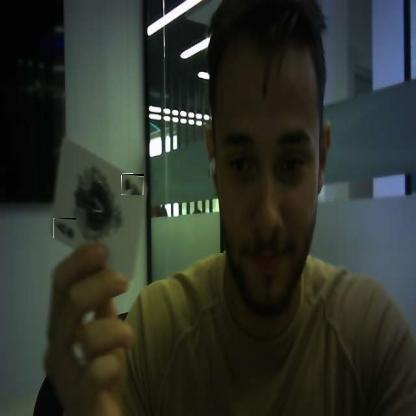AS: (121, 174, 144, 195), (53, 218, 76, 238)
